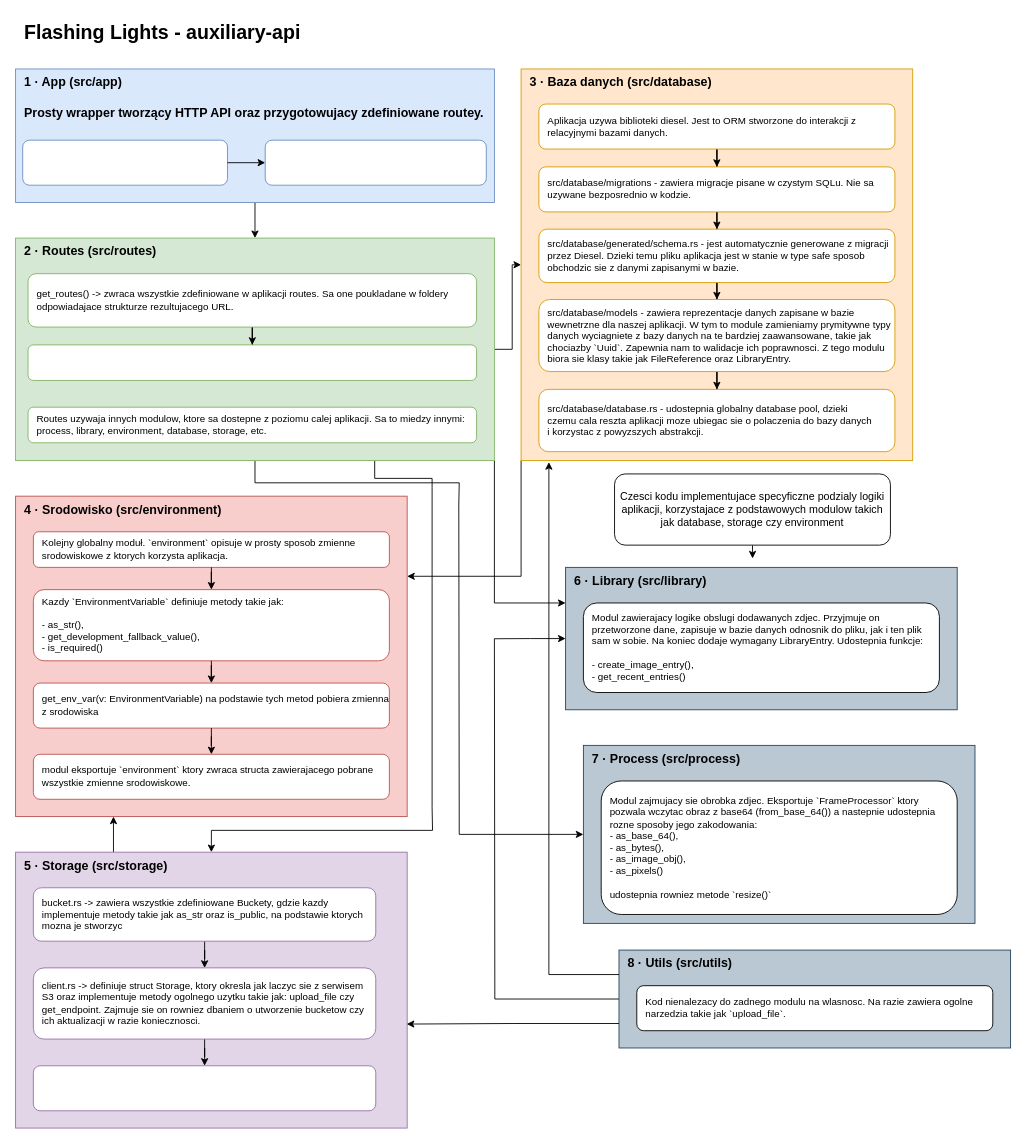
Some shapes in this 1026 by 1144 pixel diagram are drawn without their labels. Each missing label, with the centre of its shape:
"init_logging() -> startuje menedzera logow" belongs at point 375,162.
"kazdy `Route` definiuje sciezke oraz callback jej przypisany." belongs at point 252,362.
"mod.rs -> udostepnia reszcie aplikacji dzielona instancje Storage" belongs at point 204,1088.
"run() -> zarejestruj routes, przywiaz sie do portu, inicjalizuj logi, etc." belongs at point 124,162.
